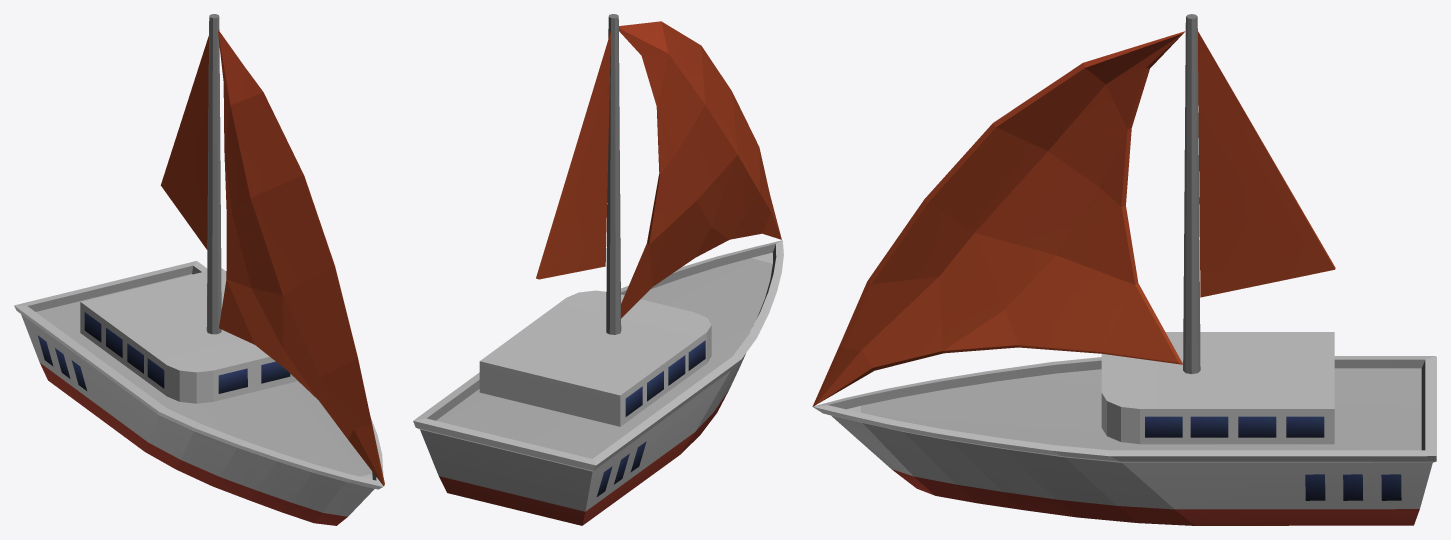
File: sail_boat.glb
The picture shows the model from 3 angles, left to right: view 1: azimuth 30°, elevation 25°; view 2: azimuth 150°, elevation 25°; view 3: azimuth 270°, elevation 25°; orthographic projection. The views are drawn at different scales.
Parts seen in each view (by area): view 1: sail_boat; view 2: sail_boat; view 3: sail_boat.
Boxes of the visible parts, x1=… form: sail_boat: x1=14, y1=14, x2=384, y2=525; sail_boat: x1=413, y1=14, x2=783, y2=525; sail_boat: x1=812, y1=14, x2=1436, y2=525.
Bounding box in the file's own units: 102 × 224 × 268.
Materials: 1 (1 with a texture image).
